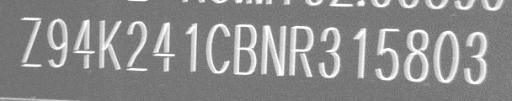letter: (431, 29, 461, 86), (94, 16, 124, 71), (257, 23, 287, 78), (18, 13, 46, 70), (286, 24, 316, 77), (122, 18, 150, 73), (149, 20, 177, 75), (230, 21, 258, 76), (373, 26, 401, 81), (462, 30, 490, 85), (204, 22, 232, 75), (404, 27, 430, 84), (44, 15, 70, 70), (317, 25, 343, 80), (70, 17, 96, 70), (180, 20, 200, 75), (350, 25, 368, 80)
